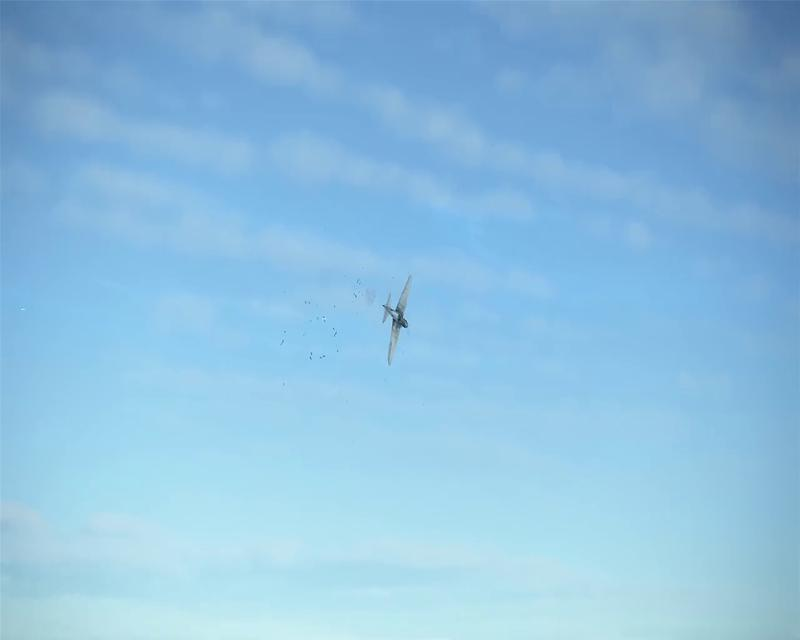UAV: (381, 272, 416, 366)
